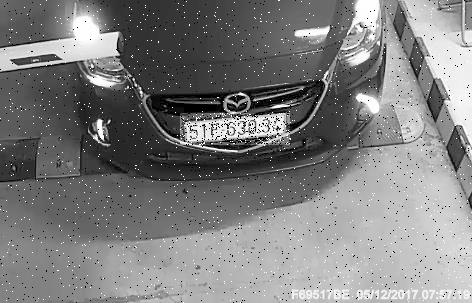License-plate: (182, 114, 293, 146)
